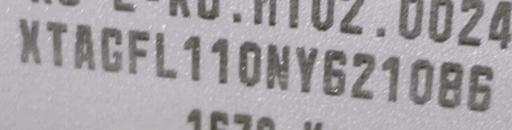letter: (264, 38, 292, 94), (436, 58, 466, 110), (466, 61, 496, 112), (98, 23, 126, 77), (320, 45, 348, 99), (235, 36, 263, 88), (348, 49, 376, 100), (293, 43, 319, 95), (408, 55, 434, 106), (72, 21, 98, 72), (153, 29, 179, 80), (124, 28, 152, 75), (16, 16, 42, 65), (181, 32, 205, 83), (378, 52, 402, 103), (44, 20, 68, 68), (210, 35, 230, 87)
